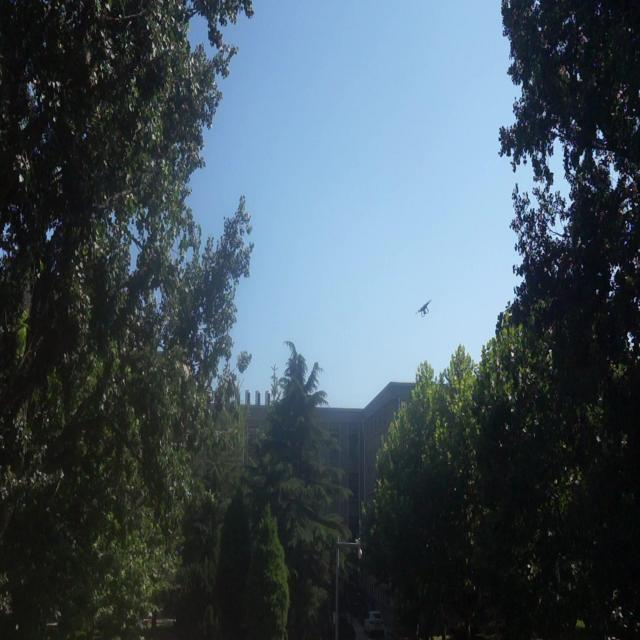UAV: (415, 299, 432, 318)
